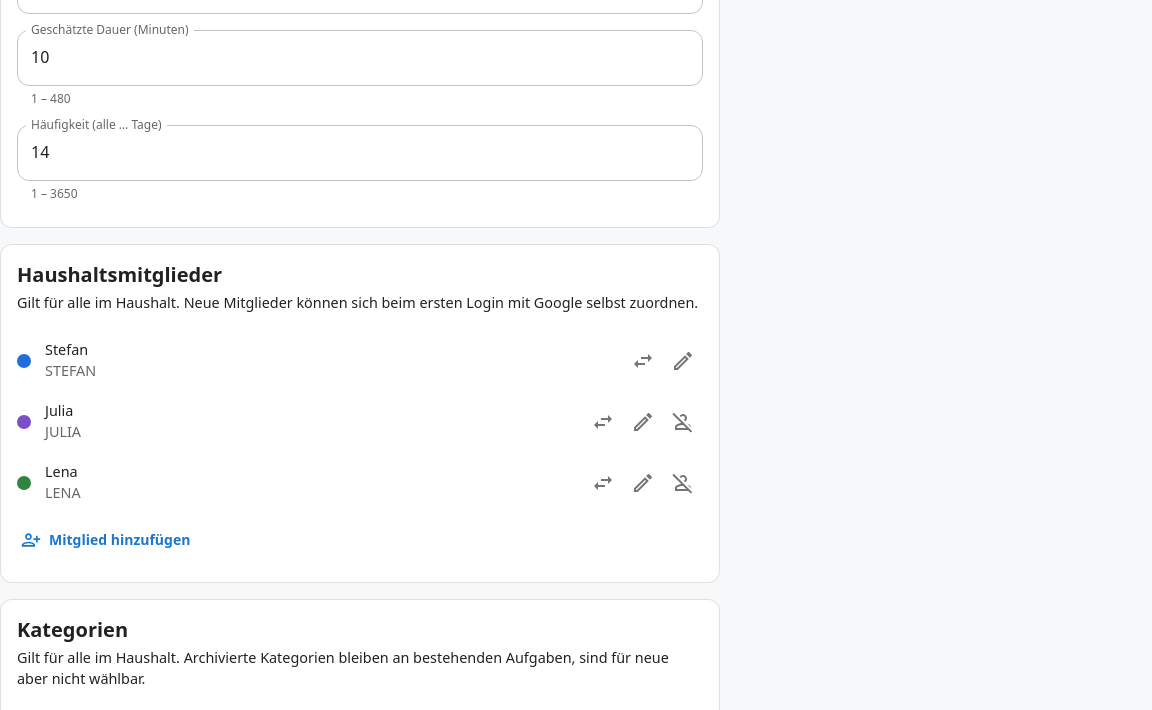
Test: handover dialog › previews and hands over all Tenners
The width and height of the screenshot is (1152, 710).
(page scrolled)
Click the button named "Aufgaben von Stefan übergeben" at [643, 361], box [623,341,663,381]
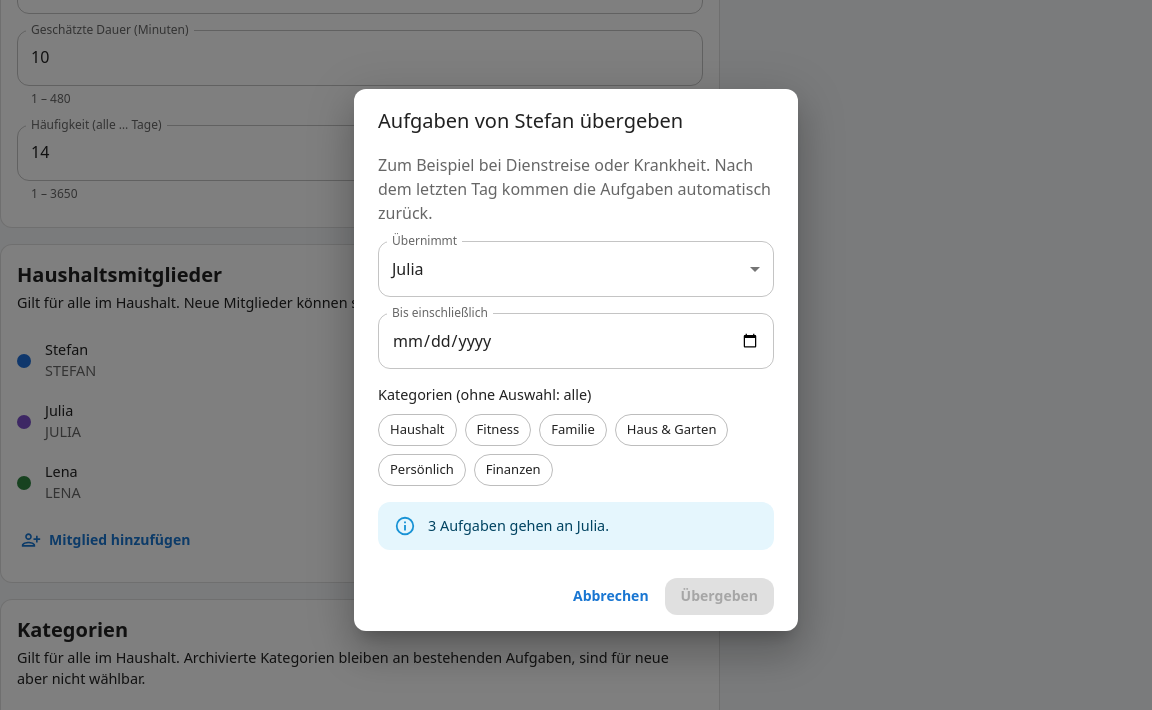
Now the message reads "3 Aufgaben gehen an Julia.", box [428,516,609,535]
Click the dropdown named "Übernimmt" at [408, 269], box [392,258,424,280]
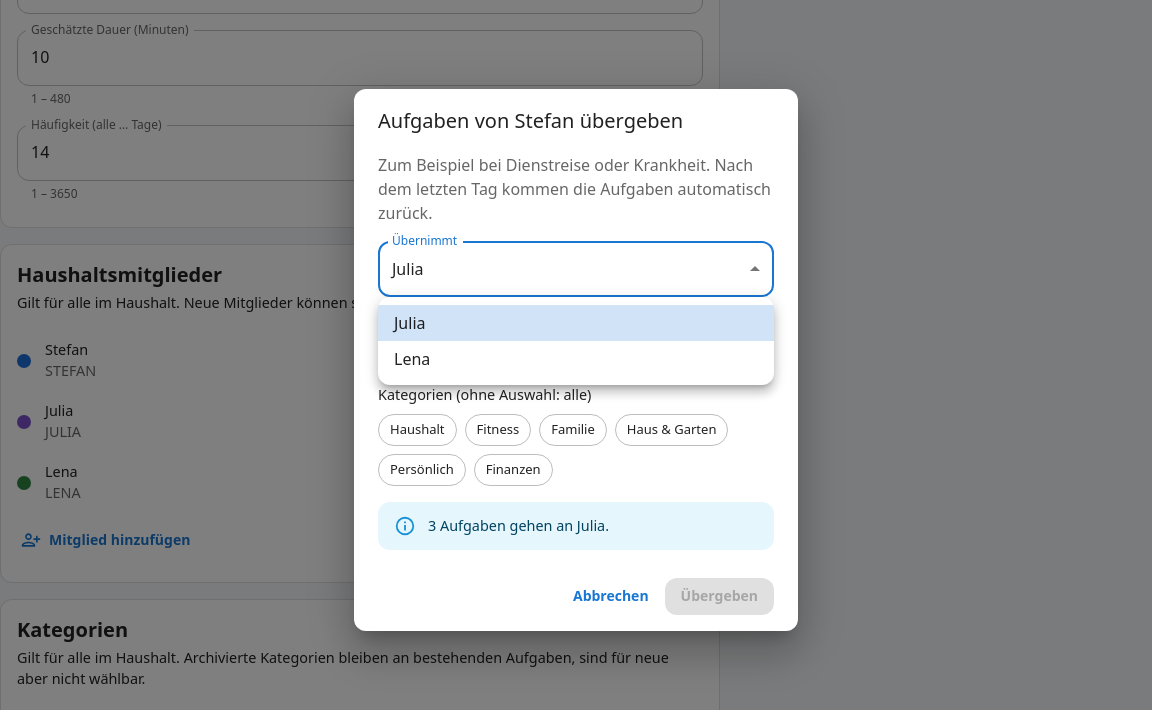
Click the option "Lena" at [412, 359], box [394,348,430,370]
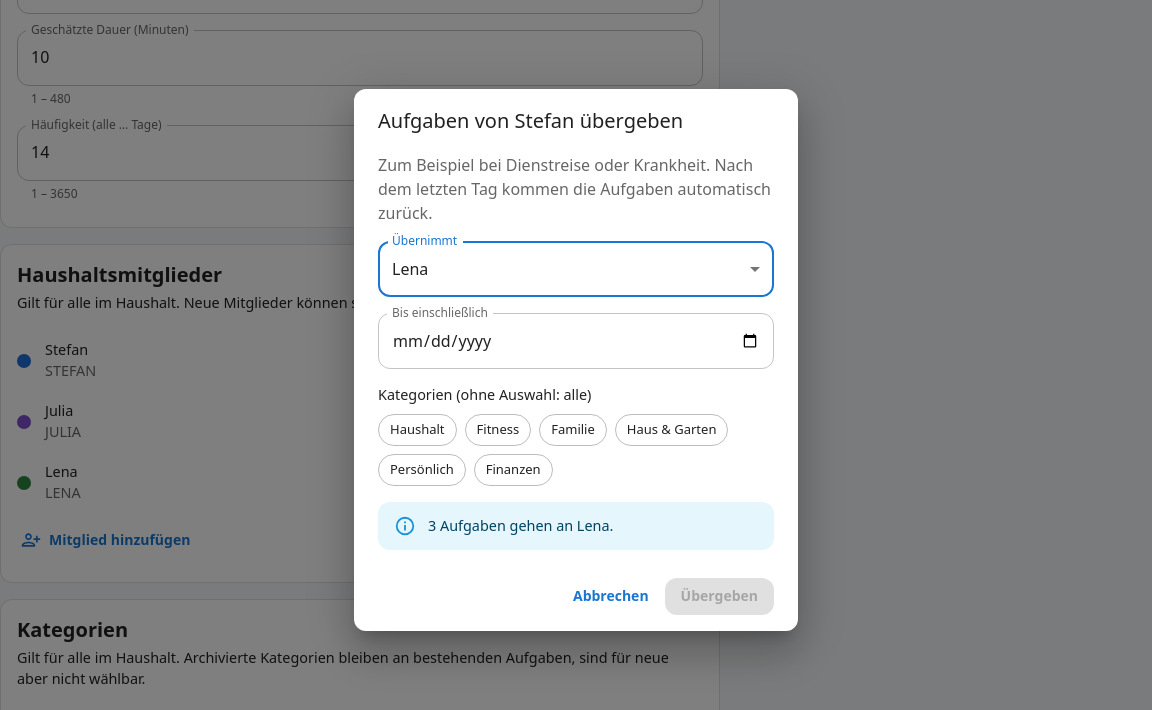
Now the button "Übergeben" is disabled, box [665,578,774,615]
Type "2099-12-31" into the date field labelled "Bis einschließlich" at [576, 341], box [378,313,774,369]
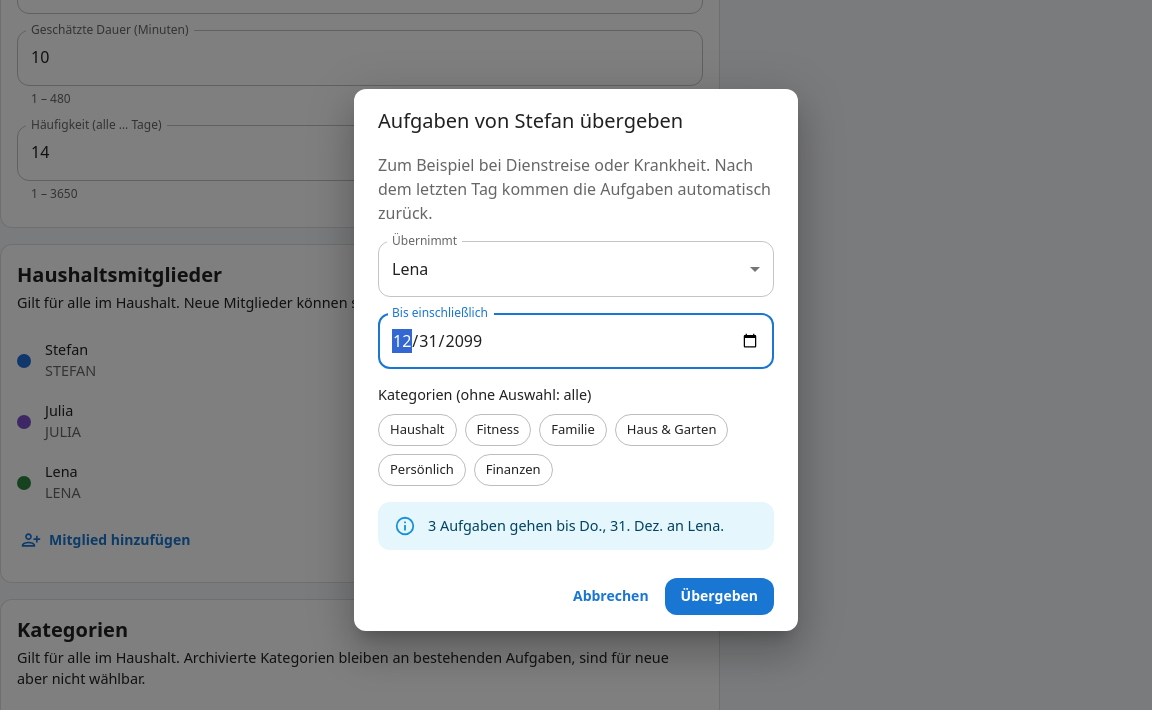
Click the button "Übergeben" at [719, 597], box [665,578,774,615]
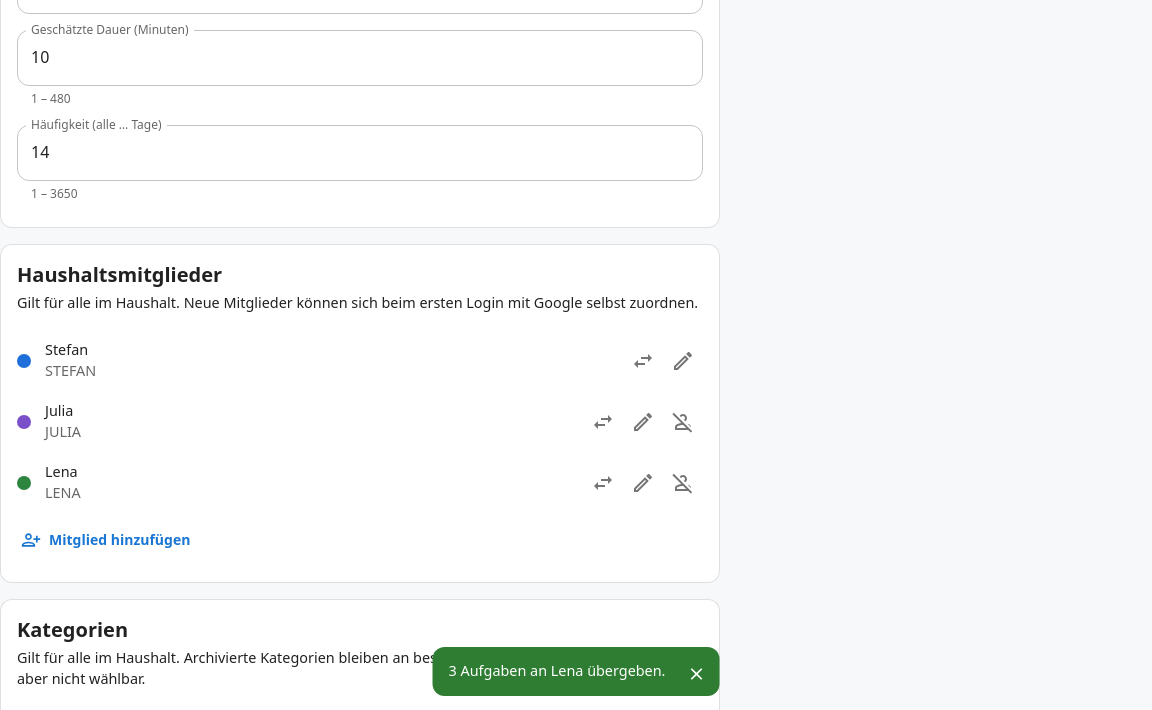
Now the text "3 Aufgaben an Lena übergeben." is shown, box [448,661,666,680]
Now the dialog is gone
